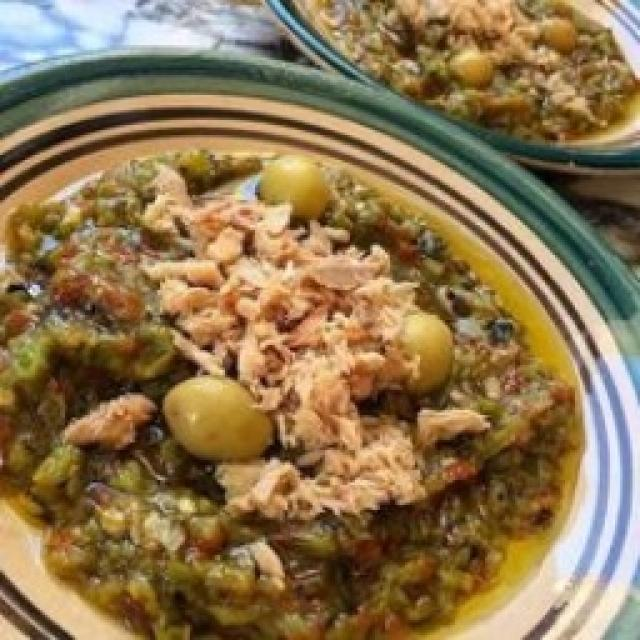Salade mechweya: (0, 148, 590, 640), (265, 0, 640, 168)
